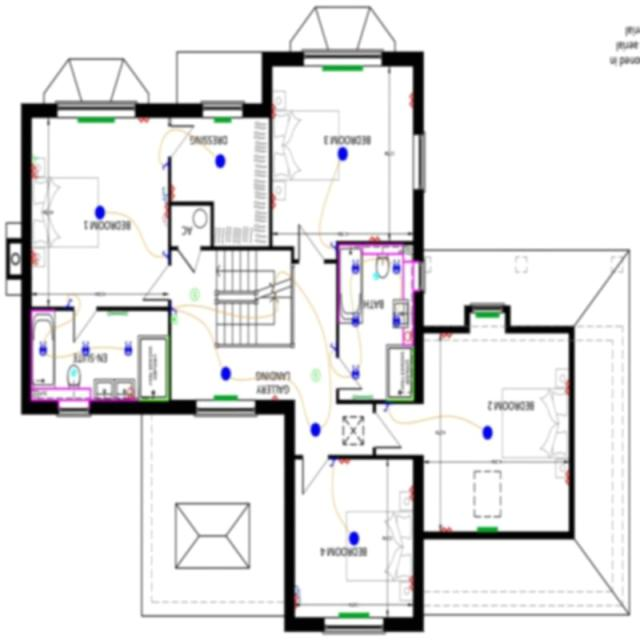Cat 6 Data Socket: (162, 188, 169, 204), (296, 587, 302, 604)
Ceiling Mounted Continuous Extract FanWith Boost Mode Activated By Light Switch: (72, 370, 78, 378), (374, 274, 380, 280)
Co-Ax TV Socket: (163, 216, 169, 227)
D: (409, 93, 414, 108)
Double Socket: (164, 204, 170, 218), (296, 596, 302, 610), (442, 334, 453, 341), (273, 195, 278, 210), (140, 118, 150, 125), (273, 105, 278, 119), (442, 526, 452, 533), (340, 460, 351, 466), (410, 486, 414, 502), (370, 236, 380, 242), (410, 577, 414, 592), (566, 472, 570, 486), (566, 382, 570, 396), (172, 186, 176, 200)
Full Height Tiling: (139, 337, 170, 402), (387, 347, 415, 402)
Light Switch: (330, 460, 338, 468), (66, 300, 74, 308), (162, 251, 169, 260), (330, 242, 337, 250), (162, 164, 170, 171), (331, 344, 337, 351), (384, 406, 391, 412), (172, 309, 178, 316)
Low Energy Downlighter: (125, 342, 134, 358), (352, 260, 361, 275), (82, 342, 91, 357), (353, 365, 361, 381), (353, 313, 361, 328), (394, 260, 402, 275), (40, 342, 48, 357), (394, 313, 401, 328)
Low Energy Pendant Light: (483, 426, 494, 441), (311, 423, 322, 438), (338, 148, 349, 162), (222, 367, 232, 382), (96, 206, 106, 221), (350, 532, 360, 546), (216, 155, 226, 169)
Mains Wired Smoke Detector: (312, 370, 322, 382), (191, 290, 201, 302)
Programmable Room Thermostat: (172, 316, 178, 325)
Radiator: (323, 66, 364, 72), (78, 118, 115, 123), (340, 614, 370, 619), (214, 396, 238, 402), (477, 313, 500, 318), (215, 118, 232, 124), (478, 528, 498, 533)
Shaver Socket: (127, 386, 137, 402), (402, 332, 414, 342)
Single Socket: (273, 395, 278, 401)
Telephone Socket: (33, 156, 39, 165)
USB Double Socket: (32, 250, 40, 268), (32, 166, 40, 180)
